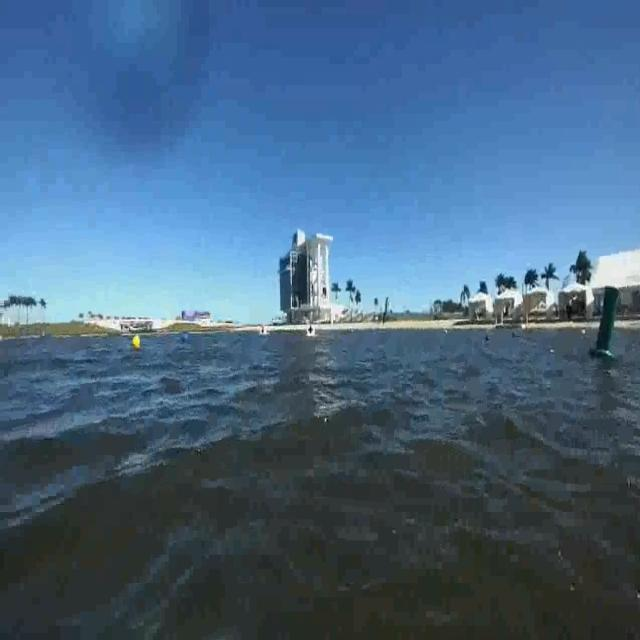blue-buoy: (181, 330, 188, 344)
green-column-buoy: (592, 286, 622, 360)
yellow-buoy: (134, 335, 142, 352)
